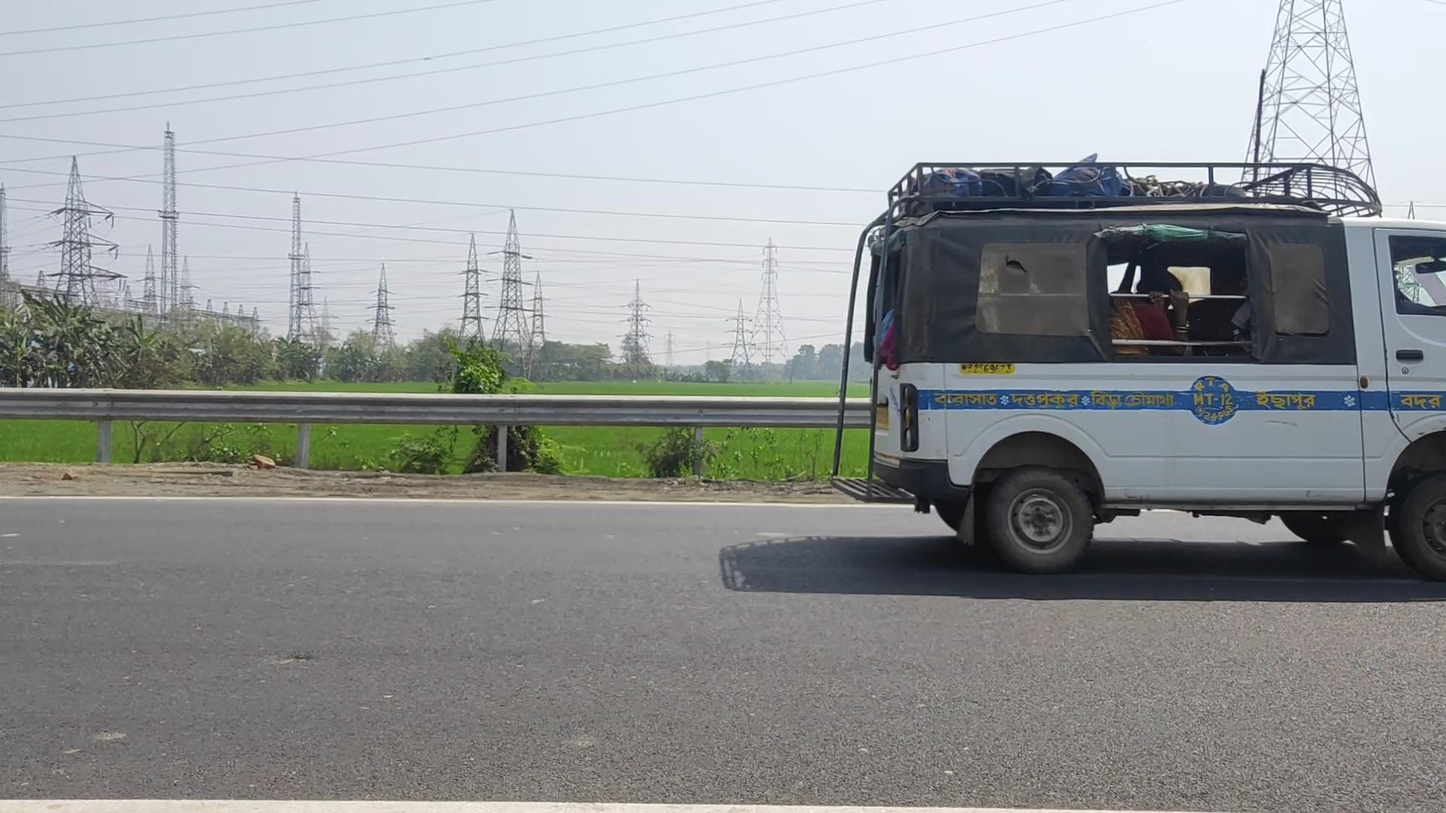van: (831, 160, 1446, 582)
